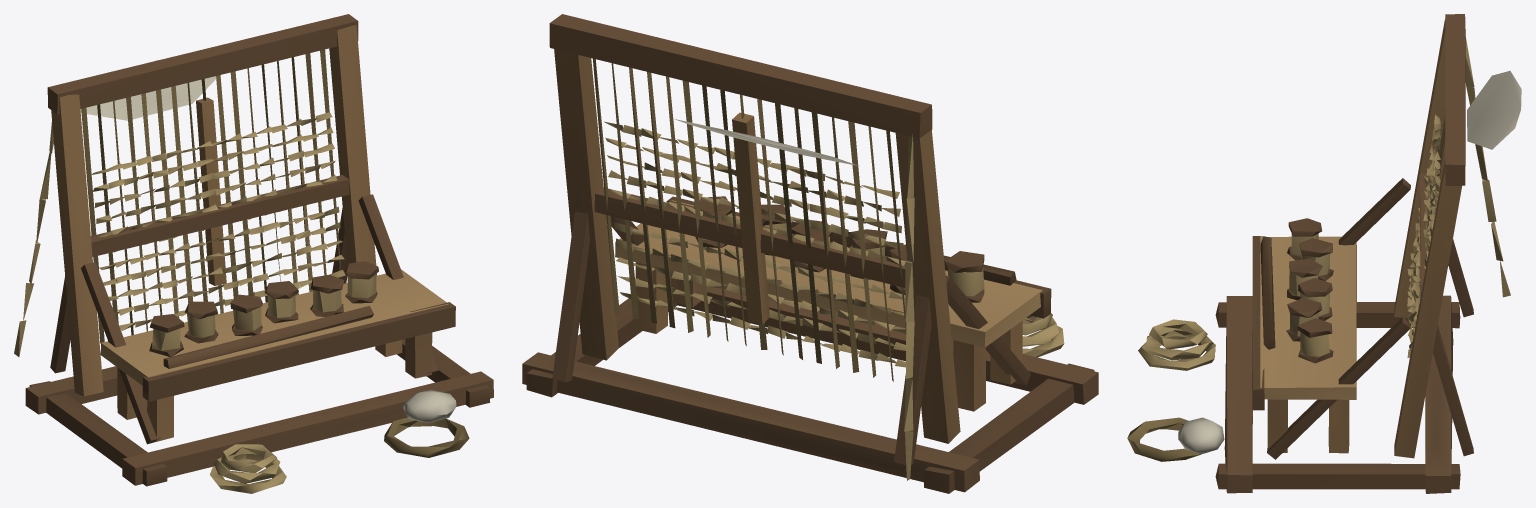
Rendered from loom_frame_a_lod2.glb.
3 views of the same model, side by side, from view 1: azimuth 30°, elevation 25°; view 2: azimuth 150°, elevation 25°; view 3: azimuth 270°, elevation 25° (orthographic). The views are drawn at different scales.
Parts seen in each view (by area): view 1: Surface.001; view 2: Surface.001; view 3: Surface.001.
Boxes of the visible parts, x1=… form: Surface.001: x1=14, y1=14, x2=493, y2=493; Surface.001: x1=522, y1=14, x2=1098, y2=493; Surface.001: x1=1127, y1=14, x2=1521, y2=493.
Size of the model in its own units: 5.57 by 4.54 by 5.16.
